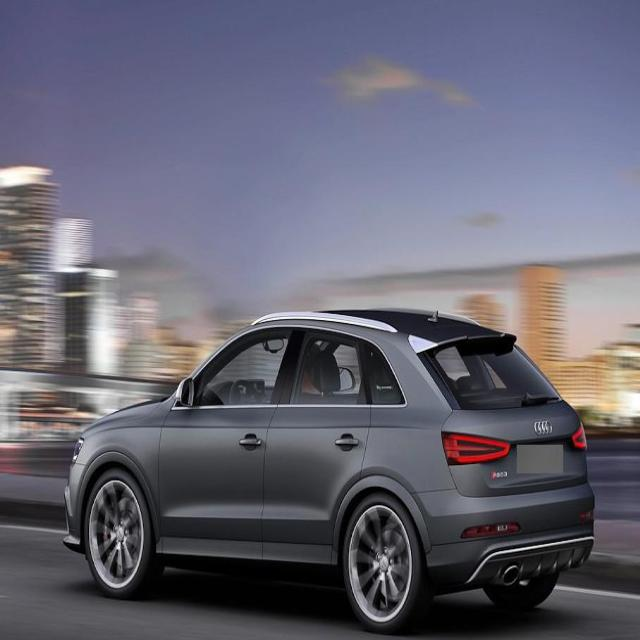back_glass: (419, 332, 564, 408)
back_left_side_light: (441, 428, 512, 468)
back_right_side_light: (568, 419, 590, 450)
door: (264, 334, 374, 560)
front_bumper: (60, 456, 98, 553)
front_left_side_door: (156, 322, 300, 566)
front_left_side_light: (70, 430, 90, 474)
front_left_side_mirror: (176, 376, 195, 412)
rear_bumper: (414, 469, 597, 595)
wheel: (341, 492, 424, 634), (82, 467, 152, 596)
